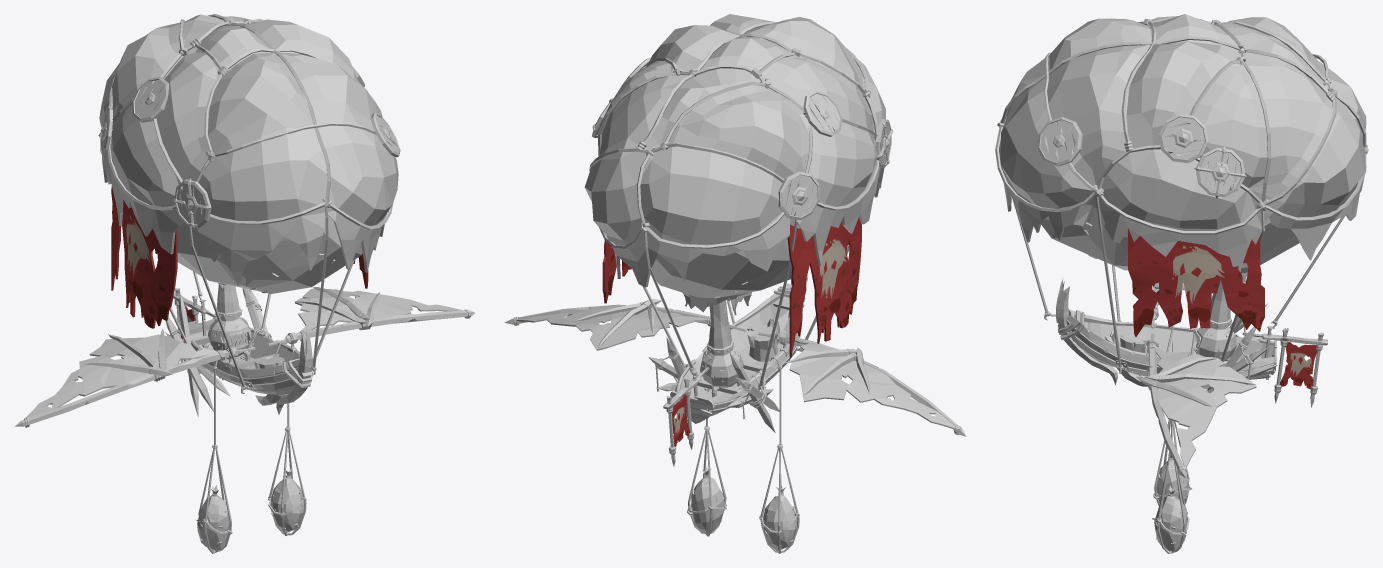
The model's file is SM_Veh_War_Balloon_01.fbx.
3 views of the same model, side by side, from view 1: azimuth 30°, elevation 25°; view 2: azimuth 150°, elevation 25°; view 3: azimuth 270°, elevation 25° (orthographic).
Parts seen in each view (by area): view 1: SM_Veh_War_Balloon_01, SM_Veh_War_Balloon_01_Oar_R, SM_Veh_War_Balloon_01_Oar_L, SM_Veh_War_Balloon_01_Bomb_R, SM_Veh_War_Balloon_01_Bomb_L; view 2: SM_Veh_War_Balloon_01, SM_Veh_War_Balloon_01_Oar_R, SM_Veh_War_Balloon_01_Oar_L, SM_Veh_War_Balloon_01_Bomb_R, SM_Veh_War_Balloon_01_Bomb_L, SM_Veh_War_Balloon_01_Banner_02; view 3: SM_Veh_War_Balloon_01, SM_Veh_War_Balloon_01_Oar_L, SM_Veh_War_Balloon_01_Bomb_L, SM_Veh_War_Balloon_01_Banner_02, SM_Veh_War_Balloon_01_Bomb_R.
Boxes of the visible parts, <box> form: SM_Veh_War_Balloon_01: <box>98,14,400,416</box>; SM_Veh_War_Balloon_01_Oar_R: <box>15,328,255,427</box>; SM_Veh_War_Balloon_01_Oar_L: <box>267,287,474,346</box>; SM_Veh_War_Balloon_01_Bomb_R: <box>196,369,232,553</box>; SM_Veh_War_Balloon_01_Bomb_L: <box>268,403,306,535</box>; SM_Veh_War_Balloon_01: <box>584,14,893,466</box>; SM_Veh_War_Balloon_01_Oar_R: <box>758,332,966,436</box>; SM_Veh_War_Balloon_01_Oar_L: <box>504,298,746,350</box>; SM_Veh_War_Balloon_01_Bomb_R: <box>759,369,799,553</box>; SM_Veh_War_Balloon_01_Bomb_L: <box>687,419,726,536</box>; SM_Veh_War_Balloon_01_Banner_02: <box>672,394,689,446</box>; SM_Veh_War_Balloon_01: <box>995,14,1368,407</box>; SM_Veh_War_Balloon_01_Oar_L: <box>1136,333,1256,478</box>; SM_Veh_War_Balloon_01_Bomb_L: <box>1152,420,1189,553</box>; SM_Veh_War_Balloon_01_Banner_02: <box>1280,342,1317,389</box>; SM_Veh_War_Balloon_01_Bomb_R: <box>1153,419,1191,505</box>.
Bounding box in the file's own units: 976 × 1037 × 682.
